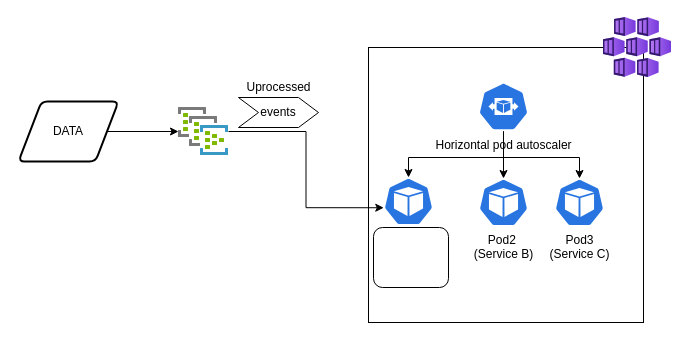
The diagram is 688 pixels wide and 340 high, and some of its shapes have lost their labels. The shapes that lost their labels are listed below. From the top down, each one's centre as x and y in pixels, then its label:
At (637,47): "AKS Cluster".
At (203,131): "Azure Event hub".
At (410,257): "Pod1 (Service A) Ingest event hub events".
